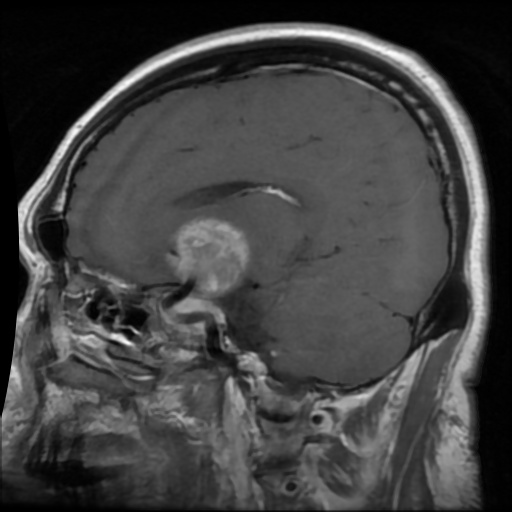pituitary: (167, 219, 248, 293)
